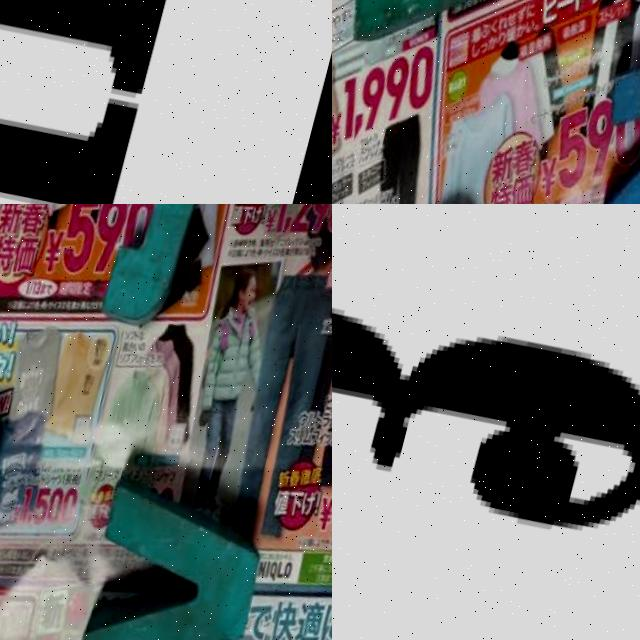3: (332, 249, 640, 581)
J: (11, 204, 223, 335)
M: (0, 0, 226, 204), (332, 0, 545, 75)
N: (573, 9, 640, 204)
V: (64, 476, 277, 640)
